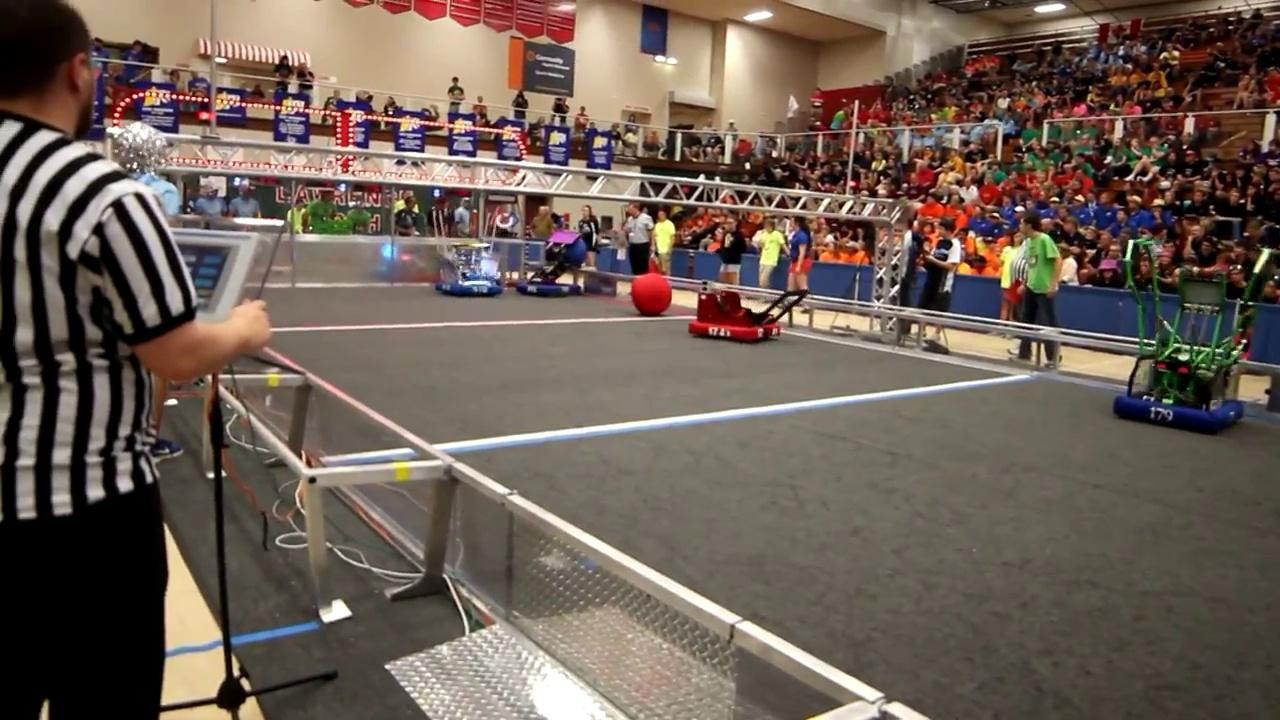robot: (1114, 265, 1258, 433), (688, 283, 815, 348), (512, 228, 589, 301), (431, 240, 512, 298)
